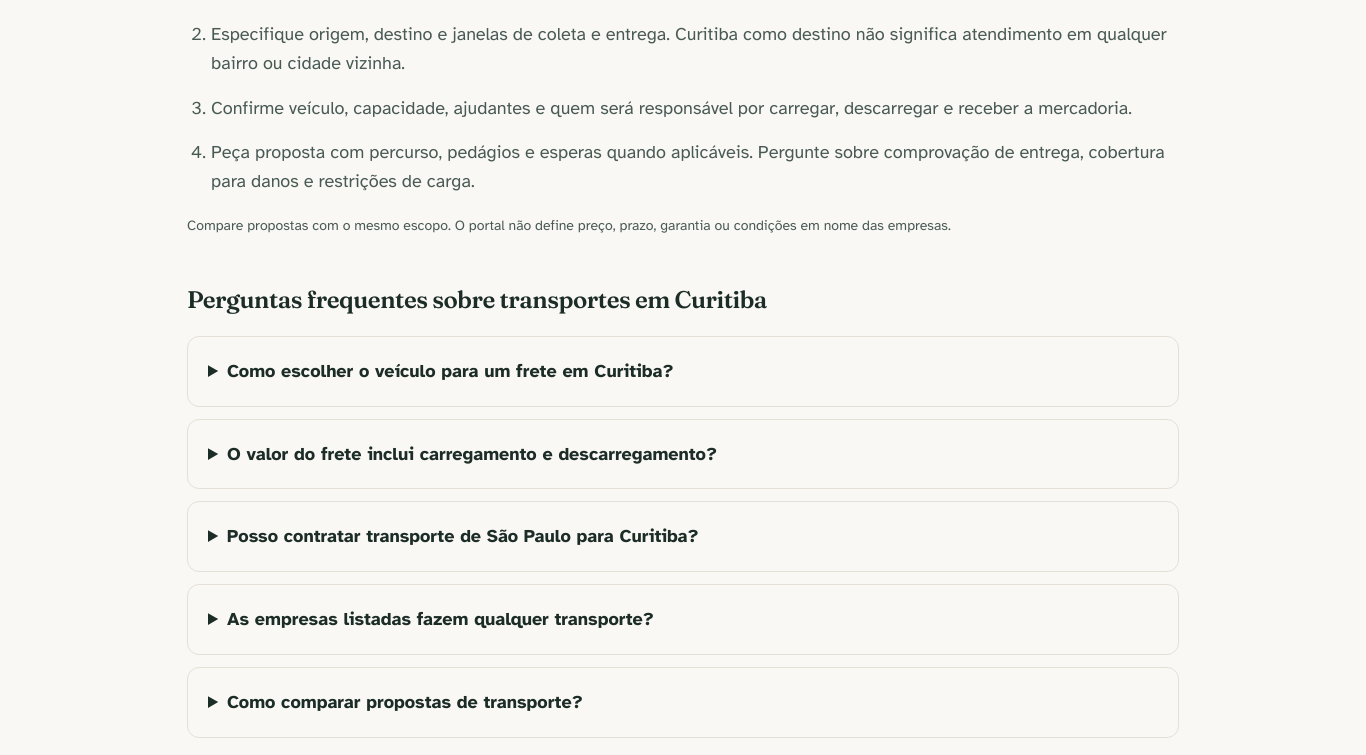
Test: guias editoriais de Curitiba › renderiza título, metadados, âncoras, FAQ e cadastro de Transportes
The image size is (1366, 755).
(page scrolled)
Click the heading "Como escolher o veículo para um frete em Curitiba?": (450, 371) [227,360,674,382]
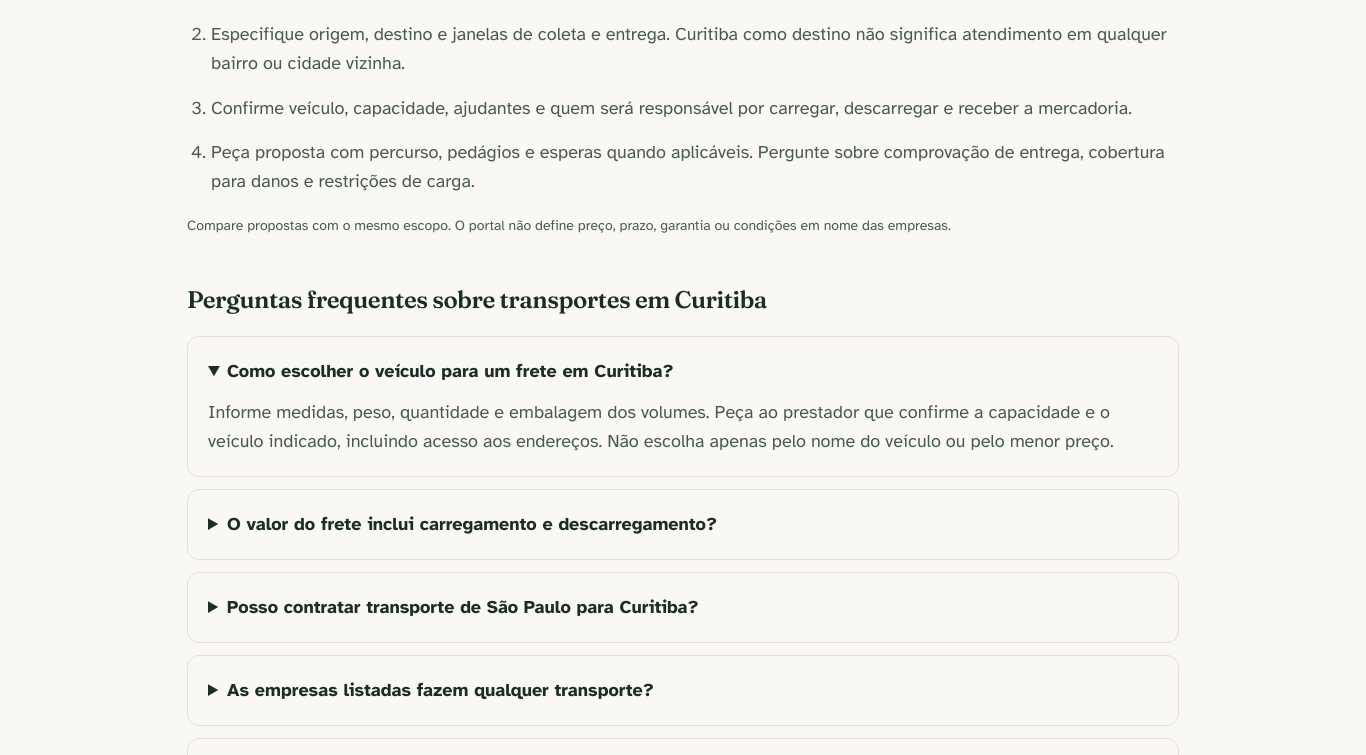
Click the heading "Como escolher o veículo para um frete em Curitiba?": (450, 371) [227,360,674,382]
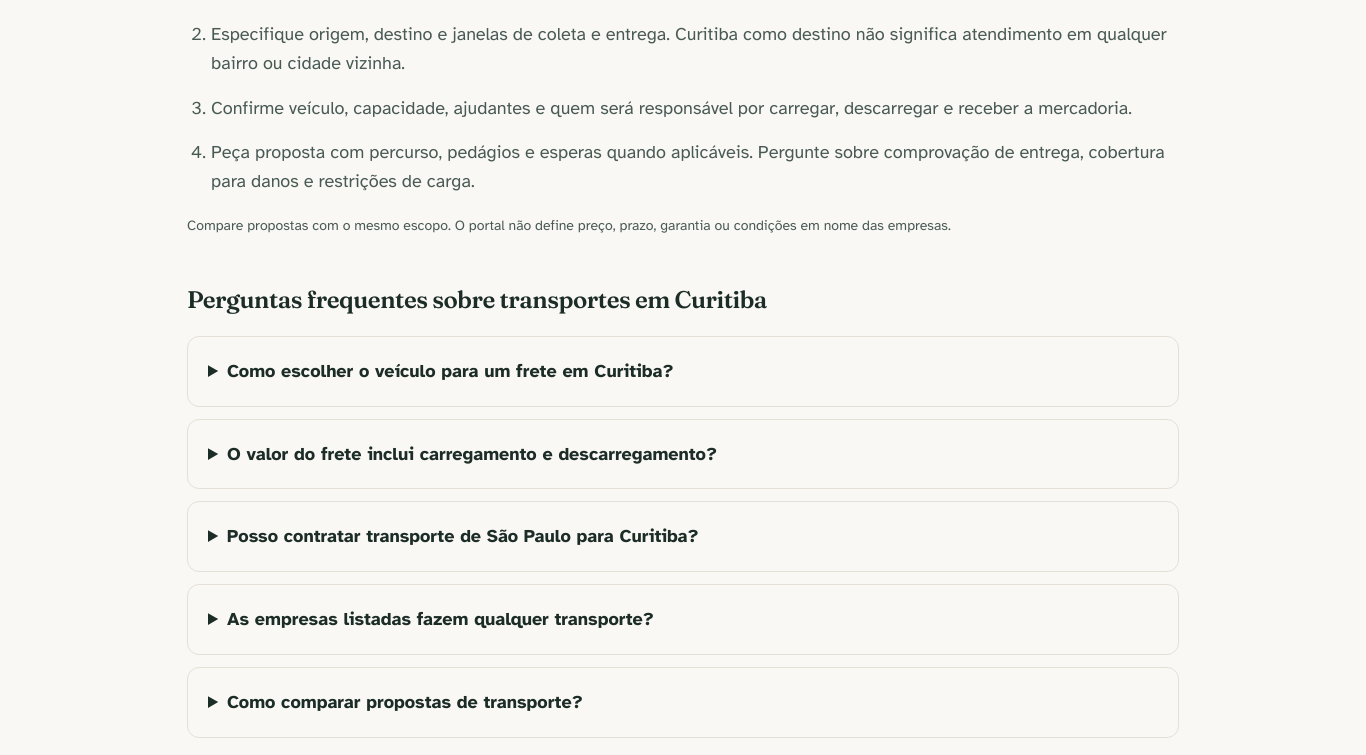
Check: the element showing "Como escolher o veículo para um frete em Curitiba?" does not have attribute open, box [187,336,1179,407]
